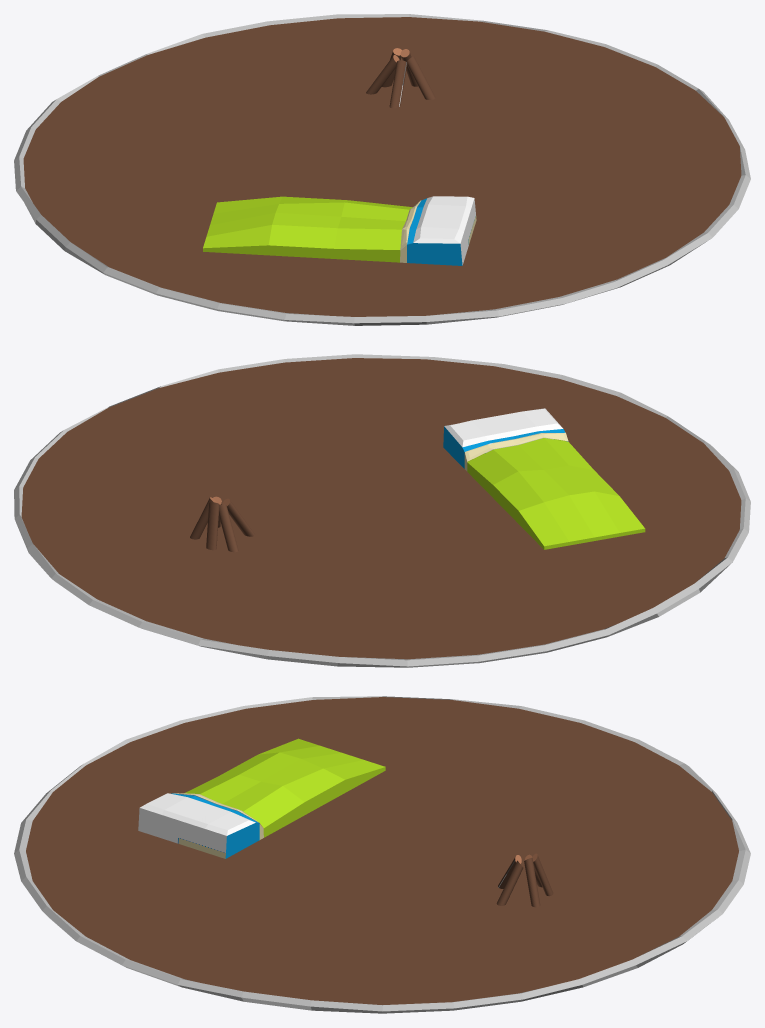
The model's file is Bed.fbx.
3 renders of one model, top to bottom at view 1: azimuth 30°, elevation 25°; view 2: azimuth 150°, elevation 25°; view 3: azimuth 270°, elevation 25°, orthographic.
Visible parts, largest first — view 1: Circle, Circle.001; view 2: Circle, Circle.001; view 3: Circle, Circle.001.
Part boxes in pixels (x1=…): Circle: x1=14, y1=14, x2=750, y2=325; Circle.001: x1=203, y1=48, x2=476, y2=265; Circle: x1=14, y1=354, x2=750, y2=667; Circle.001: x1=190, y1=408, x2=645, y2=552; Circle: x1=14, y1=696, x2=750, y2=1013; Circle.001: x1=138, y1=738, x2=553, y2=907.
Size of the model in its own units: 1047 by 118 by 1039.
